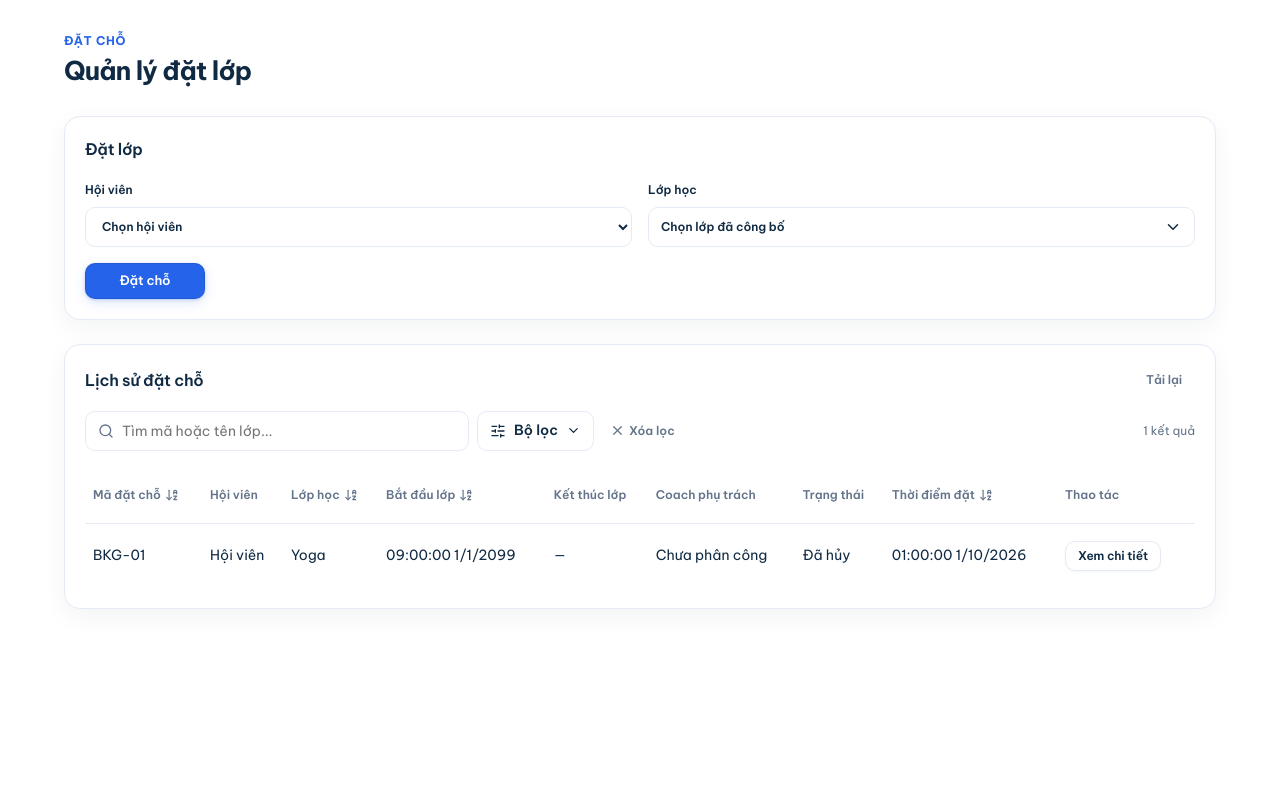
Scenario: BookingsPage › lets Admin inspect a cancelled booking and its own history without cancelling twice
This screenshot has width=1280, height=800.
Click the button "Xem chi tiết".
click(1113, 556)  # box [1065, 541, 1161, 571]
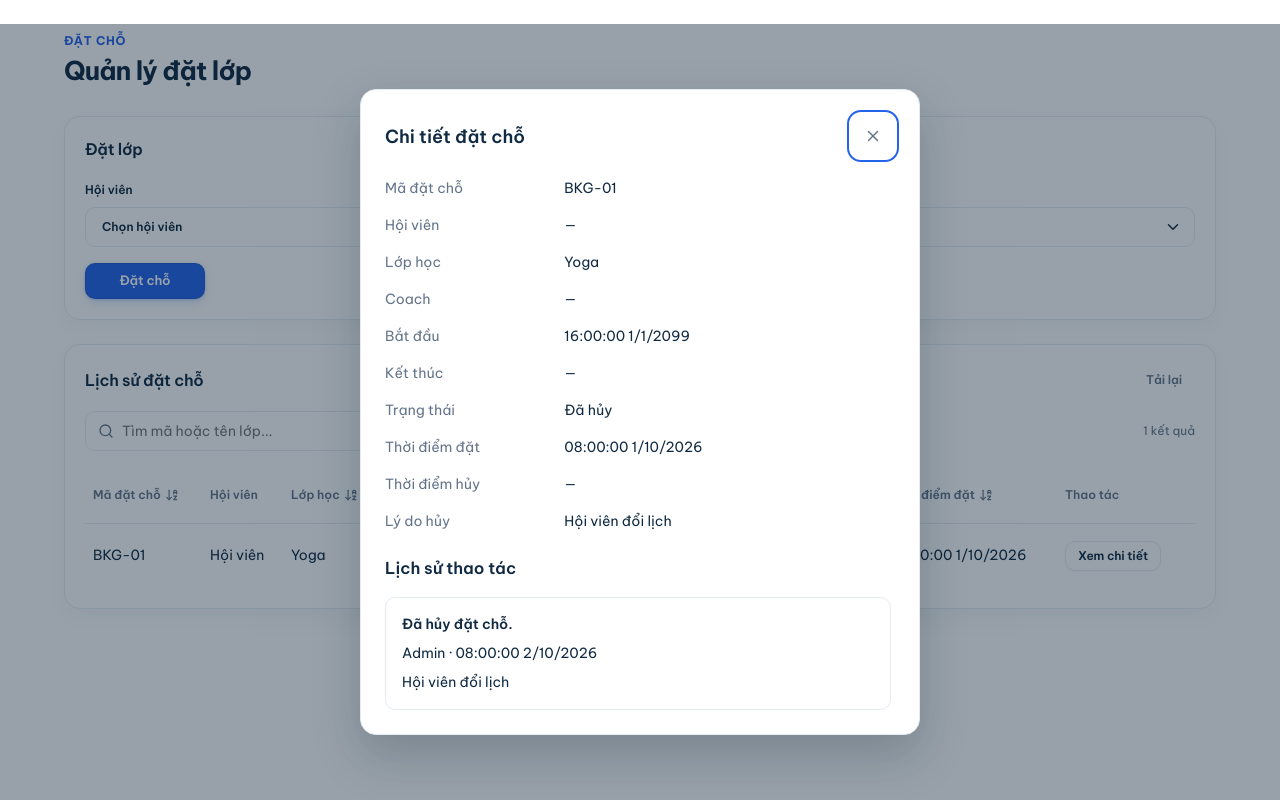
Check: the text "Đã hủy đặt chỗ." is shown, box [402, 615, 513, 633]
